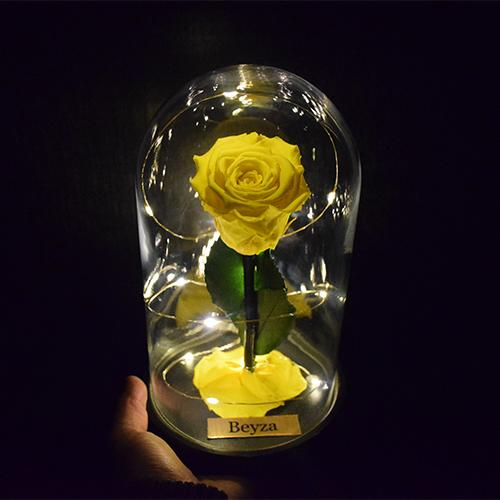Rose: (177, 129, 319, 262)
